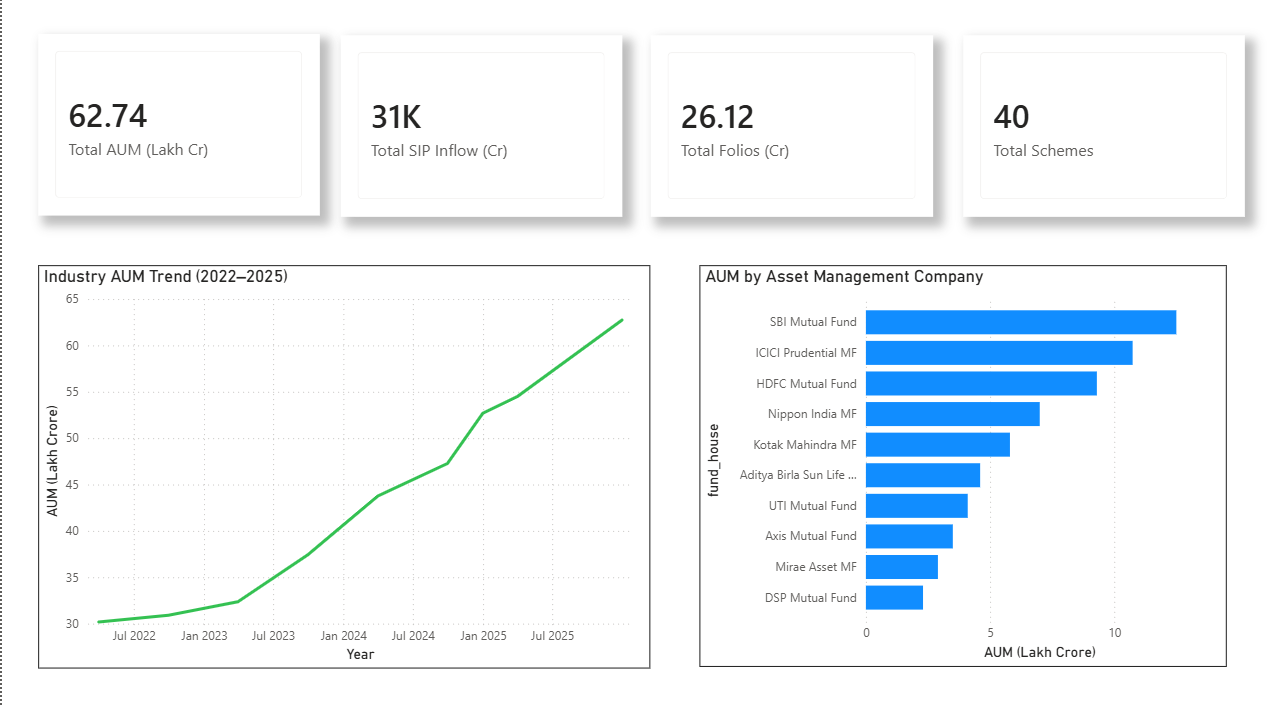

The dashboard page shown, as its layout file describes it:
{"tool":"powerbi","page":{"name":"Industry Overview","canvas":[1280,720],"ordinal":0},"visuals":[{"type":"cardVisual","fields":{"Data":["03_aum_by_fund_house_cleaned.Total AUM (Lakh Cr)"]},"box":[36.3,39.7,281.6,181.4],"z":0},{"type":"cardVisual","fields":{"Data":["04_monthly_sip_inflows_cleaned.Total SIP Inflow (Cr)"]},"box":[338.7,41.5,281.6,181.4],"z":1000},{"type":"cardVisual","fields":{"Data":["06_industry_folio_count_cleaned.Total Folios (Cr)","06_industry_folio_count_cleaned.Total Folios (Cr)"]},"box":[648.8,41.2,282.5,181.2],"z":2000},{"type":"cardVisual","fields":{"Data":["06_industry_folio_count_cleaned.Total Schemes"]},"box":[960.7,41.5,281.6,181.4],"z":3000},{"type":"lineChart","title":"Industry AUM Trend (2022–2025)","fields":{"Y":["Sum(03_aum_by_fund_house_cleaned.aum_lakh_crore)"],"Category":["03_aum_by_fund_house_cleaned.date.Variation.Date Hierarchy.Year","03_aum_by_fund_house_cleaned.date.Variation.Date Hierarchy.Quarter","03_aum_by_fund_house_cleaned.date.Variation.Date Hierarchy.Month","03_aum_by_fund_house_cleaned.date.Variation.Date Hierarchy.Day"]},"box":[36,270.7,612.2,403.6],"z":4000},{"type":"clusteredBarChart","title":"AUM by Asset Management Company","fields":{"Category":["03_aum_by_fund_house_cleaned.fund_house"],"Y":["Sum(03_aum_by_fund_house_cleaned.aum_lakh_crore)"]},"box":[697.5,271.2,527.5,401.2],"z":5000}]}

Visuals, with their boxes in screenshot pixels (x1, y1, x2, y2), scaled from the page's 1280x720 canvas onto the 1277x707 screenshot:
cardVisual - 03_aum_by_fund_house_cleaned.Total AUM (Lakh Cr): (36, 39, 317, 217)
cardVisual - 04_monthly_sip_inflows_cleaned.Total SIP Inflow (Cr): (338, 41, 619, 219)
cardVisual - 06_industry_folio_count_cleaned.Total Folios (Cr) x 06_industry_folio_count_cleaned.Total Folios (Cr): (647, 40, 929, 218)
cardVisual - 06_industry_folio_count_cleaned.Total Schemes: (958, 41, 1239, 219)
"Industry AUM Trend (2022–2025)" lineChart: (36, 266, 647, 662)
"AUM by Asset Management Company" clusteredBarChart: (696, 266, 1222, 660)
